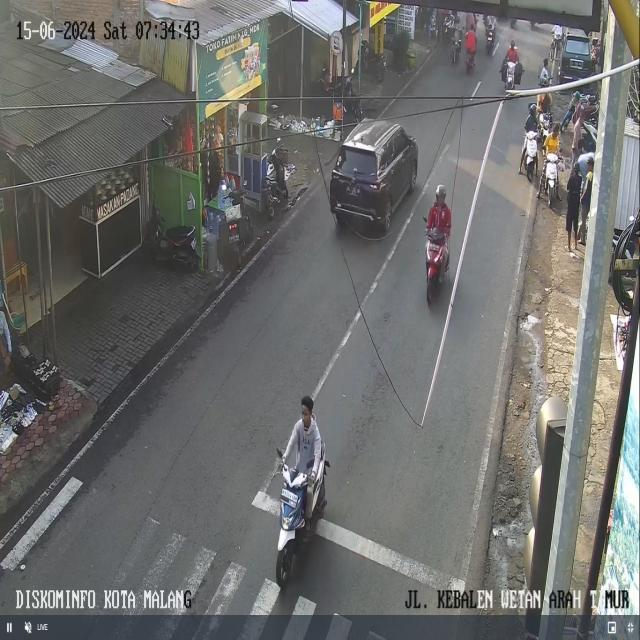Helmet: (435, 184, 445, 197), (529, 103, 536, 114), (573, 91, 581, 100), (588, 95, 596, 104), (510, 40, 514, 47)
Number Plate: (281, 488, 297, 507), (346, 184, 359, 195), (229, 232, 240, 243)
